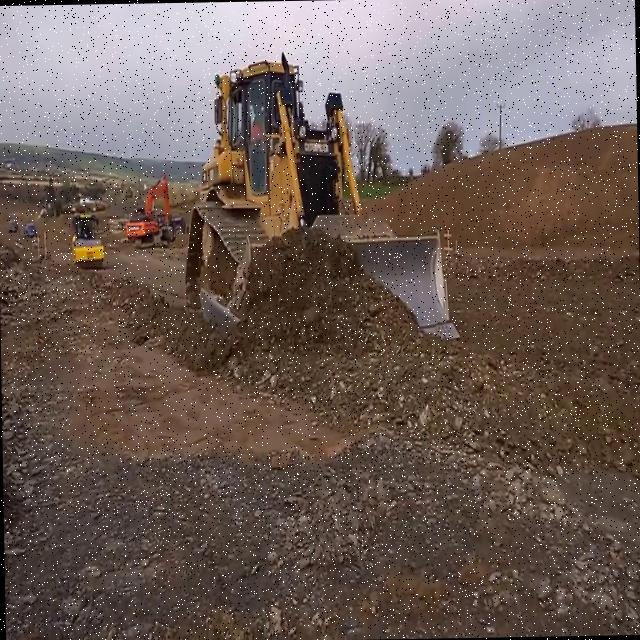Excavator: (120, 174, 174, 248)
Roller: (70, 208, 104, 264)
